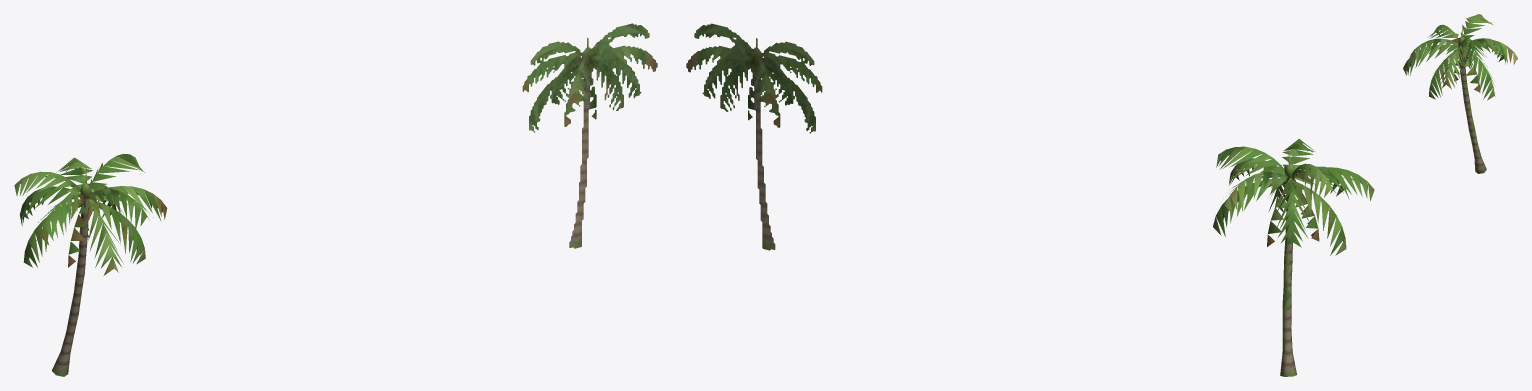
The model's file is tree_coconut.glb.
3 views of the same model, side by side, from view 1: azimuth 30°, elevation 25°; view 2: azimuth 150°, elevation 25°; view 3: azimuth 270°, elevation 25° (orthographic). The views are drawn at different scales.
Visible parts, largest first — view 1: tree_coconut_LOD0, tree_coconut_IMPOSTOR; view 2: tree_coconut_LOD0, tree_coconut_IMPOSTOR; view 3: tree_coconut_LOD0.
Boxes of the visible parts, left/top/right/bottom form: tree_coconut_LOD0: left=14, top=153, right=167, bottom=376; tree_coconut_IMPOSTOR: left=522, top=23, right=657, bottom=248; tree_coconut_LOD0: left=1213, top=139, right=1374, bottom=376; tree_coconut_IMPOSTOR: left=686, top=23, right=822, bottom=250; tree_coconut_LOD0: left=1403, top=14, right=1517, bottom=173.
Size of what is drawn, in the model's own units: 147 by 46.39 by 32.06.
Materials: 2 (2 with a texture image).
